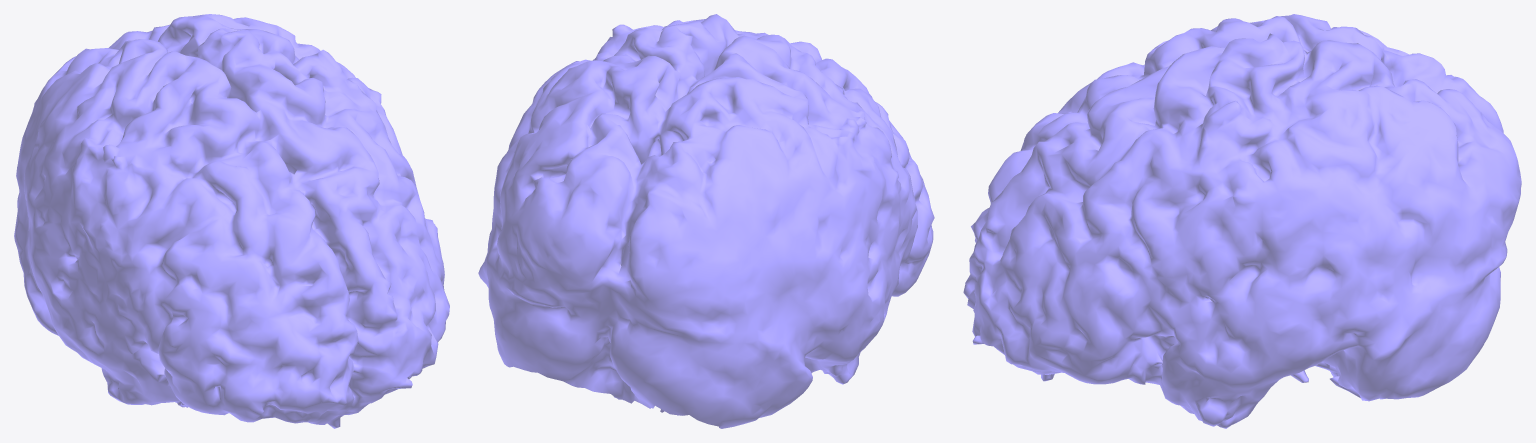
File: Unity2Skfb.gltf
3 renders of one model, left to right at view 1: azimuth 30°, elevation 25°; view 2: azimuth 150°, elevation 25°; view 3: azimuth 270°, elevation 25°, orthographic. The views are drawn at different scales.
Visible parts, largest first — view 1: transform; view 2: transform; view 3: transform.
Part boxes in pixels (left/top/right/bottom): transform: left=14, top=14, right=449, bottom=428; transform: left=478, top=14, right=934, bottom=428; transform: left=963, top=14, right=1521, bottom=428.
Size of the model in its own units: 0.123 by 0.1157 by 0.1634.
